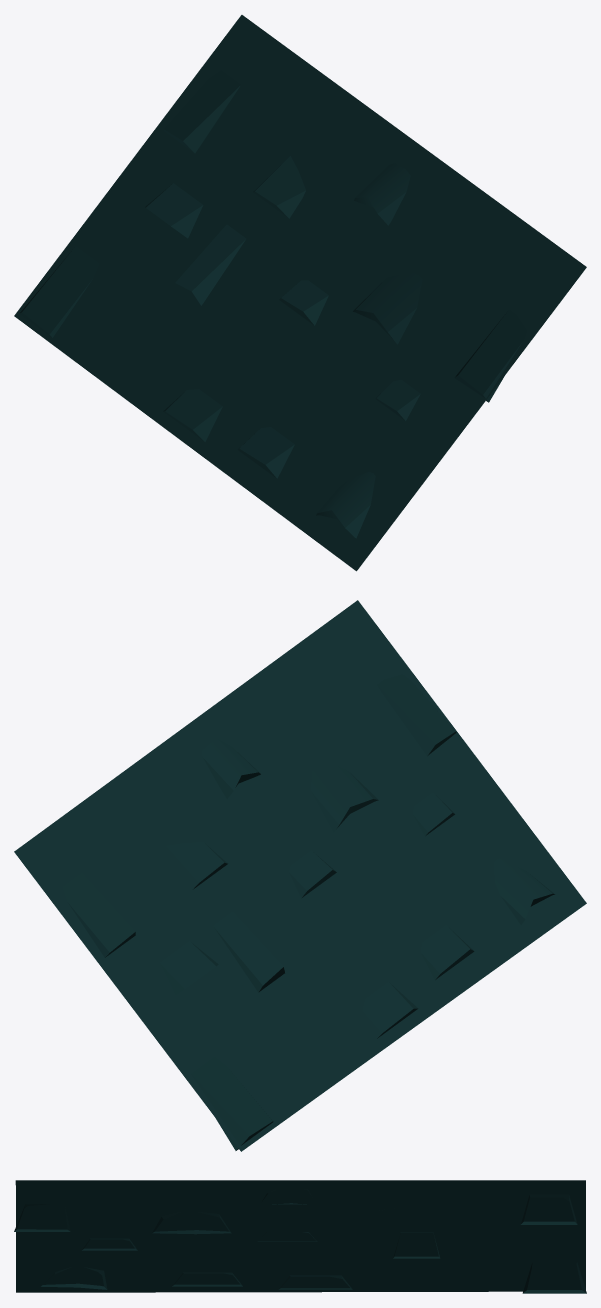
The model's file is SM_L_G_Home_Roof.fbx.
3 views of the same model, one above another, from view 1: azimuth 30°, elevation 25°; view 2: azimuth 150°, elevation 25°; view 3: azimuth 270°, elevation 25° (orthographic). The views are drawn at different scales.
Visible parts, largest first — view 1: SM_L_G_Home_Roof; view 2: SM_L_G_Home_Roof; view 3: SM_L_G_Home_Roof.
Boxes of the visible parts, x1,y1,x2,y2 form: SM_L_G_Home_Roof: (14,15,586,571); SM_L_G_Home_Roof: (14,600,586,1151); SM_L_G_Home_Roof: (14,1180,586,1293).
Bounding box in the file's own units: 1.5 × 1.55 × 3.92.
